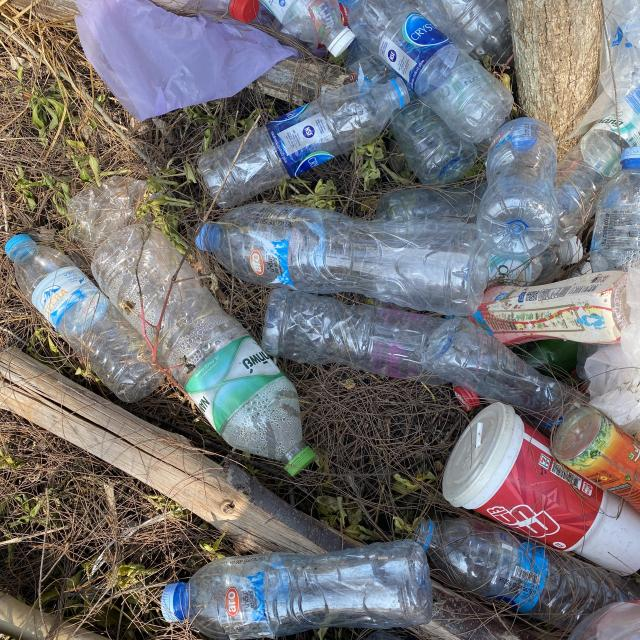Single-layer Plastic: (75, 0, 296, 120), (571, 0, 640, 136), (66, 176, 146, 254)
